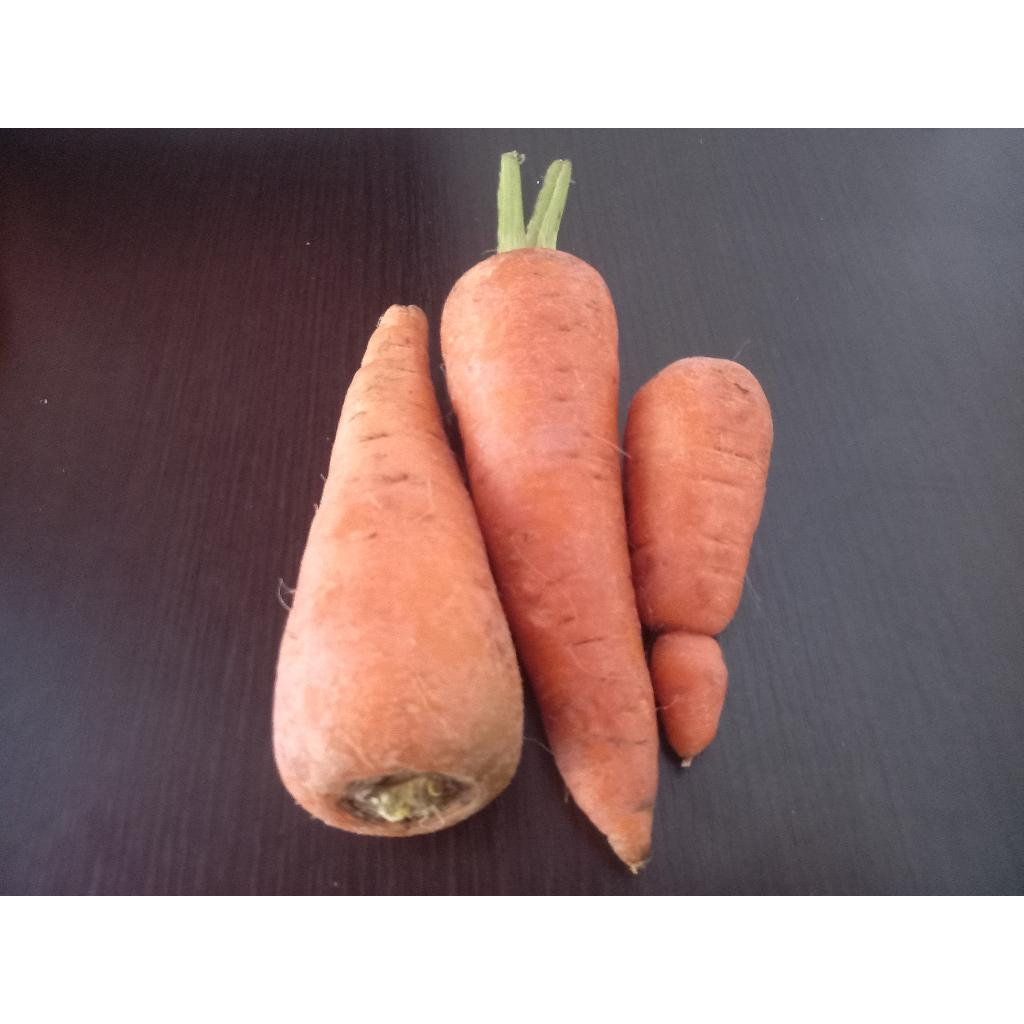carrot: (442, 248, 658, 868), (274, 306, 522, 836), (624, 358, 772, 758)
